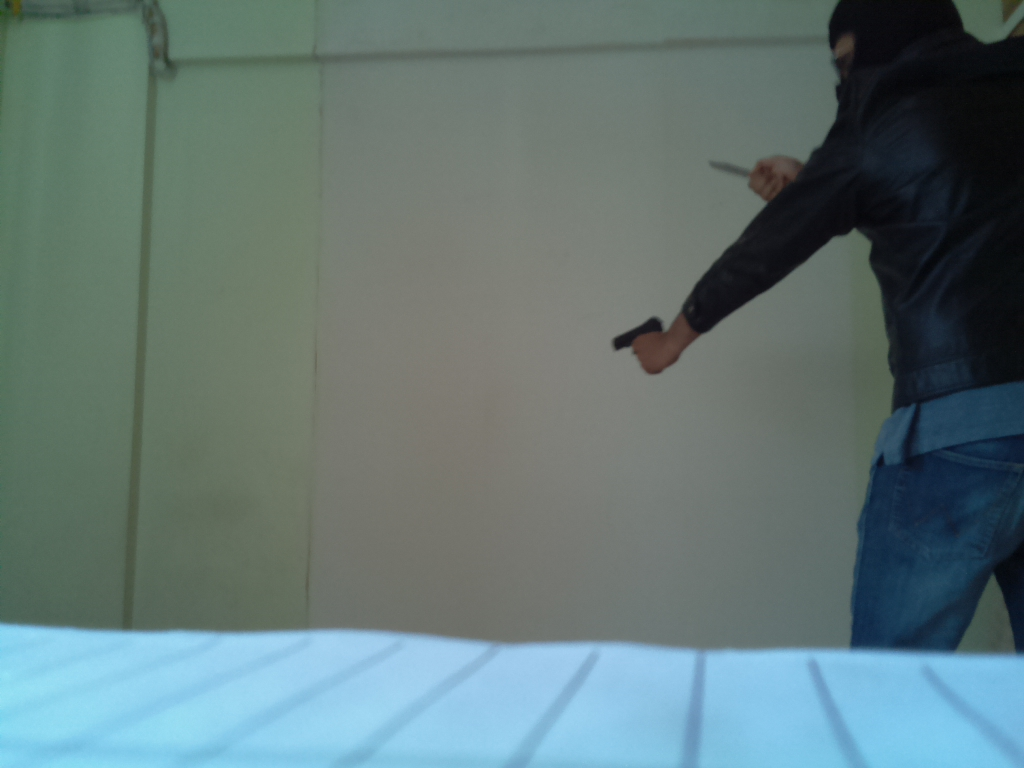gun: (609, 310, 667, 375)
